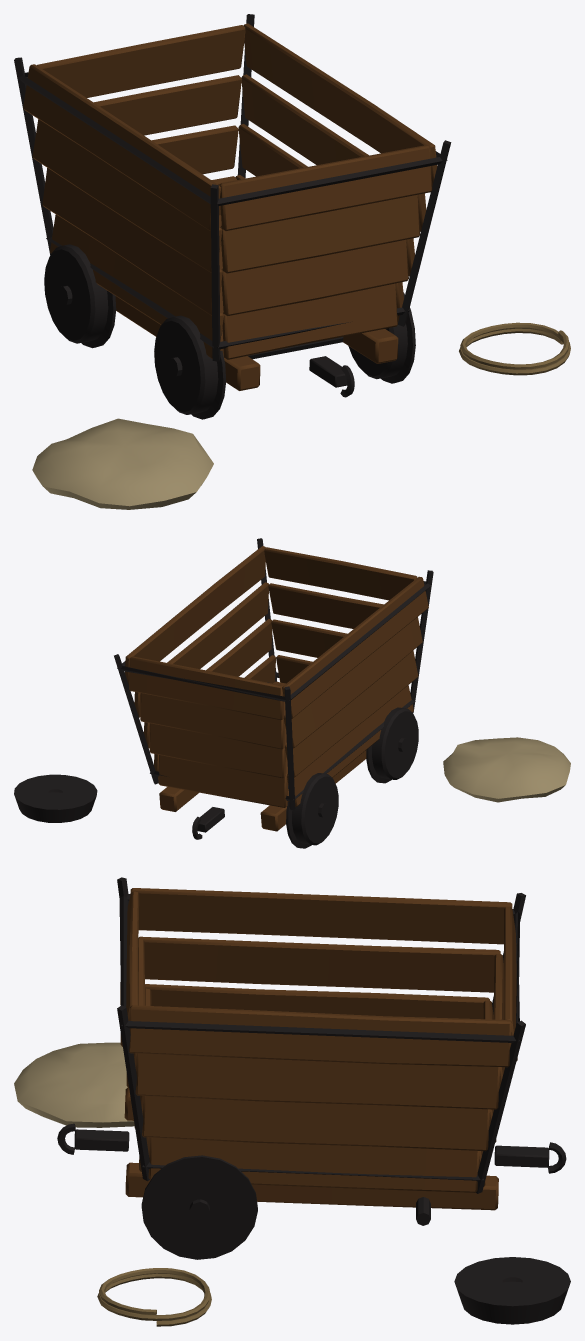
Rendered from grubenlore_kaputt.glb.
3 views of the same model, one above another, from view 1: azimuth 30°, elevation 25°; view 2: azimuth 150°, elevation 25°; view 3: azimuth 270°, elevation 25° (orthographic). The views are drawn at different scales.
Visible parts, largest first — view 1: grubenlore_kaputt; view 2: grubenlore_kaputt; view 3: grubenlore_kaputt.
Part boxes in pixels (left/top/right/bottom): grubenlore_kaputt: left=14, top=14, right=570, bottom=509; grubenlore_kaputt: left=14, top=538, right=570, bottom=848; grubenlore_kaputt: left=14, top=877, right=570, bottom=1326.
Size of the model in its own units: 1.9 by 0.9033 by 1.64.
